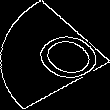O_SE: (9, 21, 101, 89)
